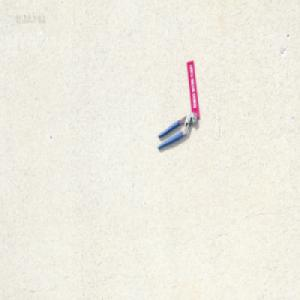Label: (186, 59, 200, 119)
Pliers: (156, 111, 196, 150)
